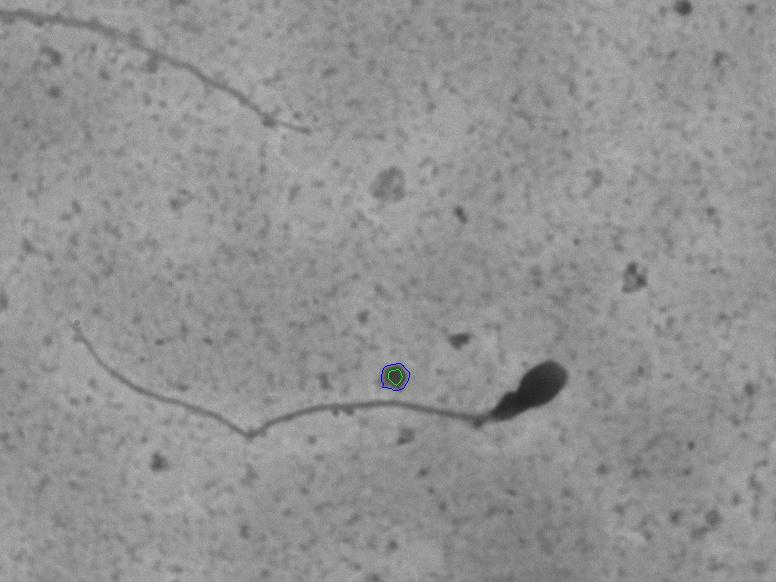Abnormal: (32, 314, 602, 467)
